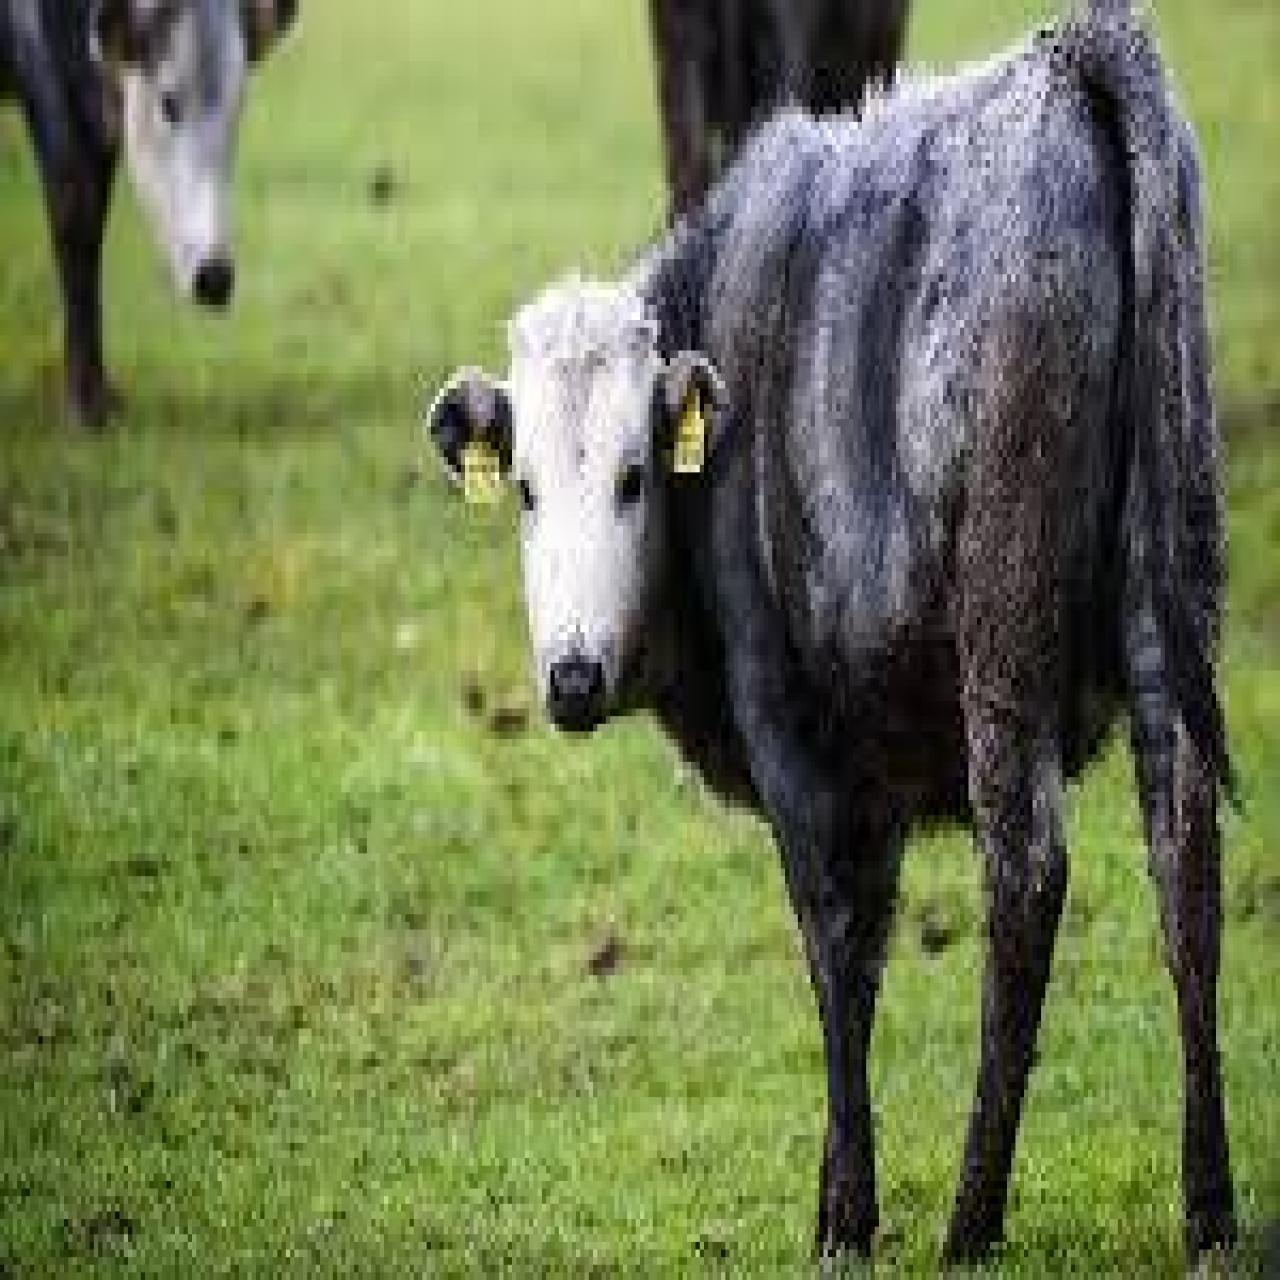cow: (424, 0, 1248, 1280), (0, 0, 302, 442), (647, 0, 919, 297)
